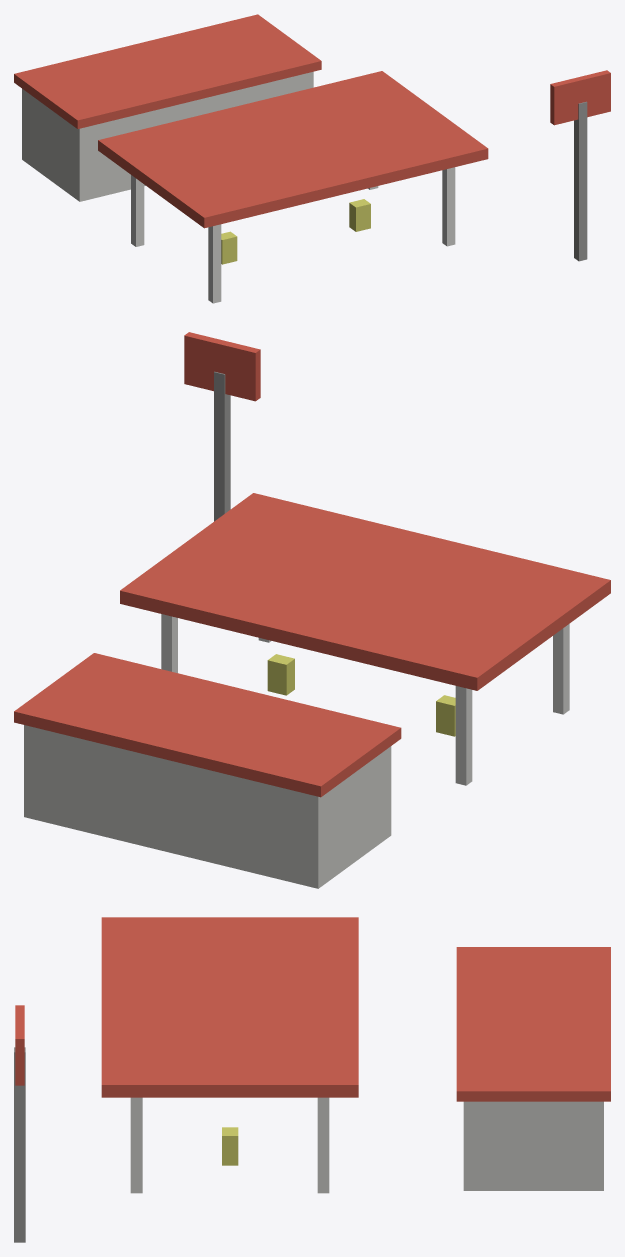
Rendered from gas_station.glb.
The picture shows the model from 3 angles, top to bottom: view 1: azimuth 30°, elevation 25°; view 2: azimuth 150°, elevation 25°; view 3: azimuth 270°, elevation 25°; orthographic projection. The views are drawn at different scales.
Size of the model in its own units: 22.2 by 10.3 by 25.55.
